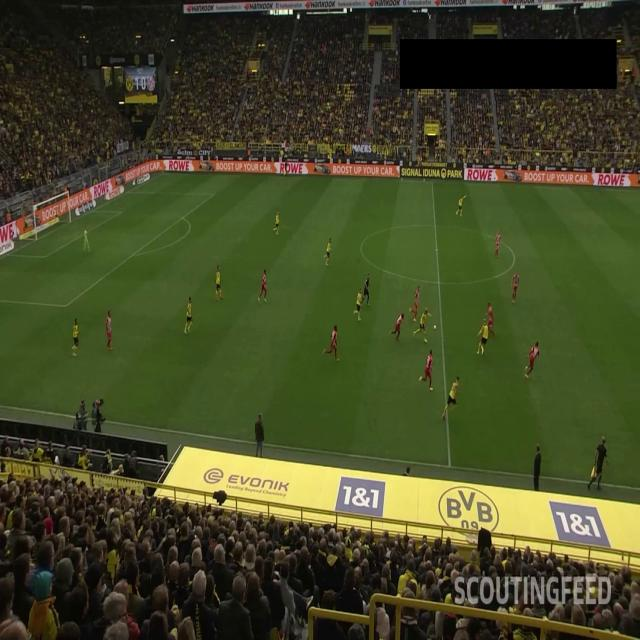Ball: (433, 325, 437, 331)
GoalKeeper: (82, 228, 90, 255)
Referee: (586, 436, 611, 492), (419, 348, 434, 393), (360, 272, 371, 307), (283, 157, 288, 177)
TEAM 1: (322, 324, 338, 364), (524, 340, 540, 379), (390, 312, 404, 343), (408, 286, 420, 322), (485, 300, 495, 338), (258, 268, 268, 304), (105, 310, 113, 352), (511, 271, 520, 305), (494, 230, 502, 257)
TEAM 2: (442, 375, 460, 422), (412, 308, 431, 344), (476, 319, 487, 357), (71, 317, 81, 357), (214, 264, 224, 302), (184, 294, 193, 336), (353, 289, 363, 323), (457, 193, 468, 221), (323, 238, 333, 266), (273, 209, 280, 235)
